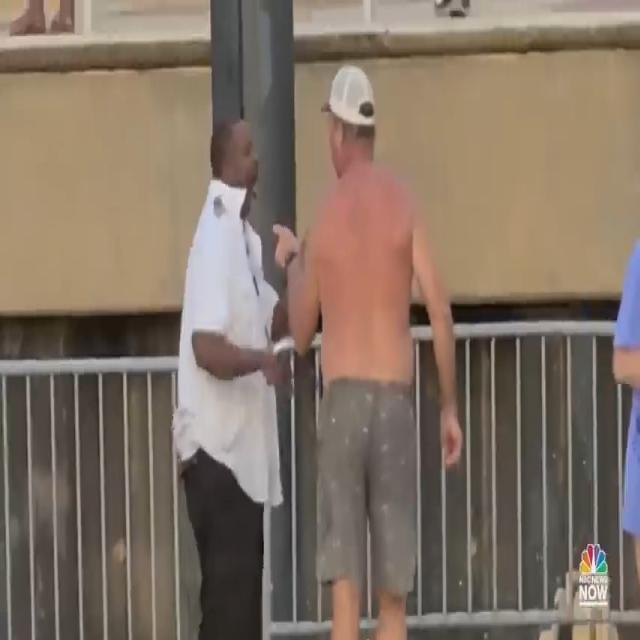non-fight: (172, 54, 463, 640)
